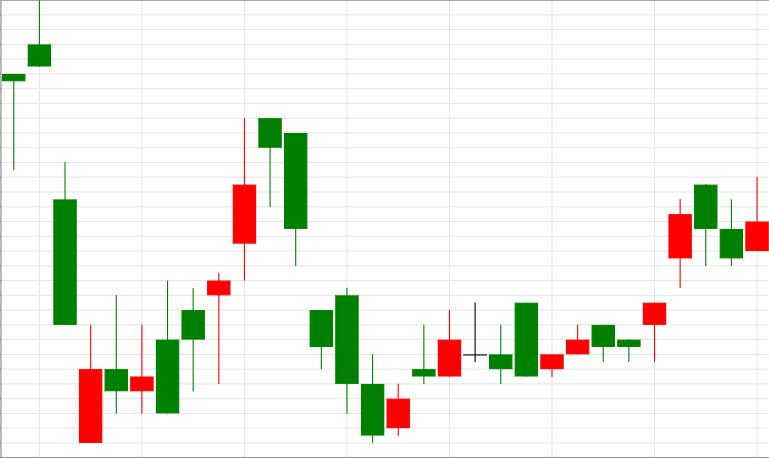hanging_man_fall: (79, 118, 282, 443)
